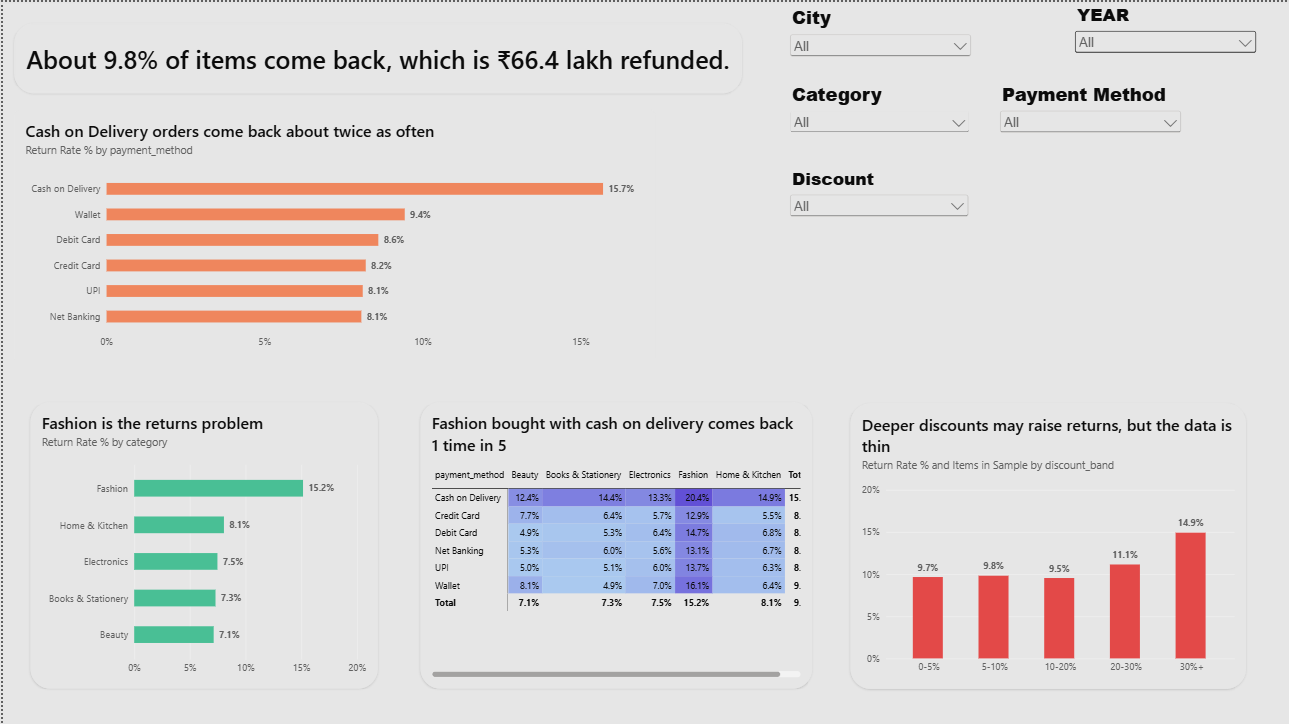

Layout of this report page (visuals, bound fields, positions):
{"tool":"powerbi","page":{"name":"Why do orders come back?","canvas":[1920,1080],"ordinal":2},"visuals":[{"type":"slicer","fields":{"Values":["fact_orders.discount_band"]},"box":[1208.2,471.4,529,86.4],"z":4},{"type":"cardVisual","fields":{"Data":["_Measures.Returns Callout"]},"box":[16.5,30.9,1086.8,150.3],"z":5},{"type":"clusteredBarChart","title":"Cash on Delivery orders come back about twice as often","fields":{"Category":["fact_orders.payment_method"],"Y":["_Measures.Return Rate %"]},"box":[16.5,207.9,957.1,331.4],"z":6},{"type":"clusteredBarChart","title":"Fashion is the returns problem","fields":{"Category":["dim_products.category"],"Y":["_Measures.Return Rate %"]},"box":[41.2,596.9,518.7,428.1],"z":7},{"type":"pivotTable","title":"Fashion bought with cash on delivery comes back 1 time in 5","fields":{"Columns":["dim_products.category"],"Rows":["fact_orders.payment_method"],"Values":["_Measures.Return Rate %"]},"box":[623.7,596.9,584.6,428.1],"z":8},{"type":"clusteredColumnChart","title":"Deeper discounts may raise returns, but the data is thin","fields":{"Category":["fact_orders.discount_band"],"Y":["_Measures.Return Rate %"]},"box":[1265.9,599,590.7,426.1],"z":9},{"type":"slicer","fields":{"Values":["dim_customers.city"]},"box":[1006.5,0,279.9,86.4],"z":10},{"type":"slicer","title":"Category","fields":{"Values":["dim_products.category"]},"box":[1286.5,0,277.9,86.4],"z":11},{"type":"slicer","title":"YEAR","fields":{"Values":["dim_date.year"]},"box":[1595.2,0,279.9,94.7],"z":12},{"type":"slicer","fields":{"Values":["fact_orders.payment_method"]},"box":[1484.1,117.3,280.5,81.4],"z":13}]}

Visuals, with their boxes in screenshot pixels (x1, y1, x2, y2), scaled from the page's 1920x1080 canvas onto the 1289x724 screenshot:
slicer - fact_orders.discount_band: [811, 316, 1166, 374]
cardVisual - _Measures.Returns Callout: [11, 21, 741, 121]
"Cash on Delivery orders come back about twice as often" clusteredBarChart: [11, 139, 654, 362]
"Fashion is the returns problem" clusteredBarChart: [28, 400, 376, 687]
"Fashion bought with cash on delivery comes back 1 time in 5" pivotTable: [419, 400, 811, 687]
"Deeper discounts may raise returns, but the data is thin" clusteredColumnChart: [850, 402, 1246, 687]
slicer - dim_customers.city: [676, 0, 864, 58]
"Category" slicer: [864, 0, 1050, 58]
"YEAR" slicer: [1071, 0, 1259, 63]
slicer - fact_orders.payment_method: [996, 79, 1185, 133]
